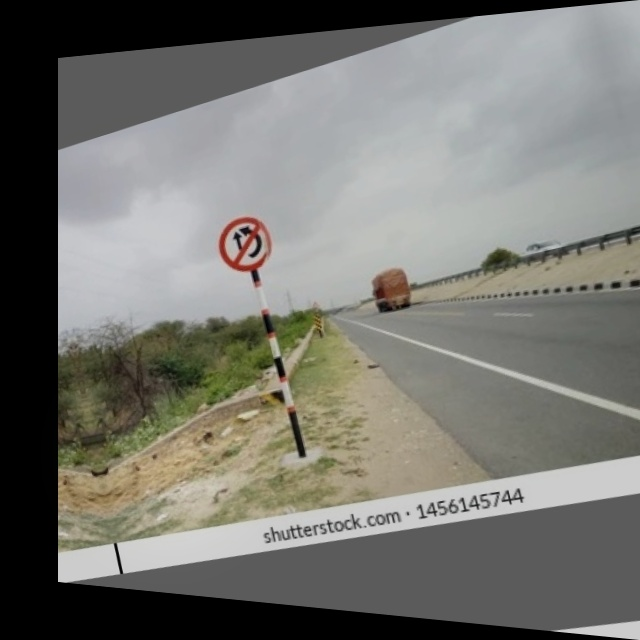Overtaking_Prohibited: (214, 210, 279, 280)
